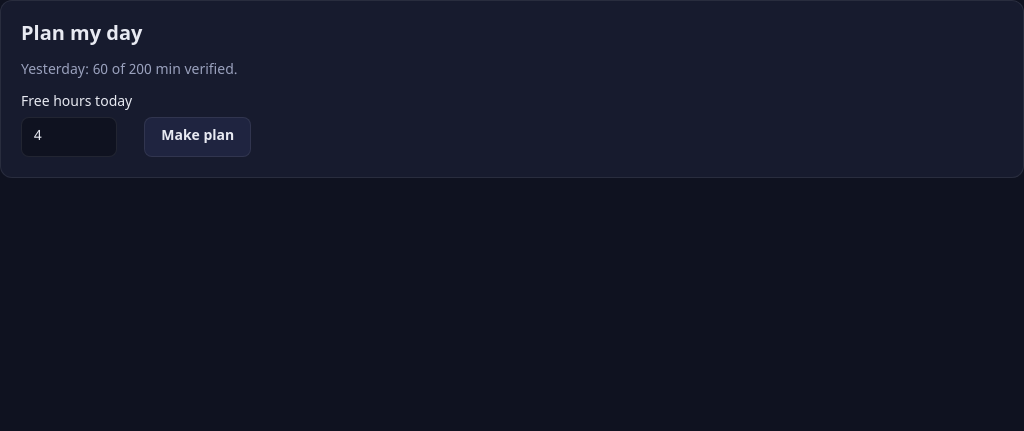
PlanCard › shows a gentle catch-up note when yesterday was only partly verified
Expected: the text "Yesterday: 60 of 200 min verified." is shown, left=21, top=61, right=238, bottom=80
Step 1. Click the button "Make plan" → [198, 137], box left=144, top=117, right=251, bottom=157
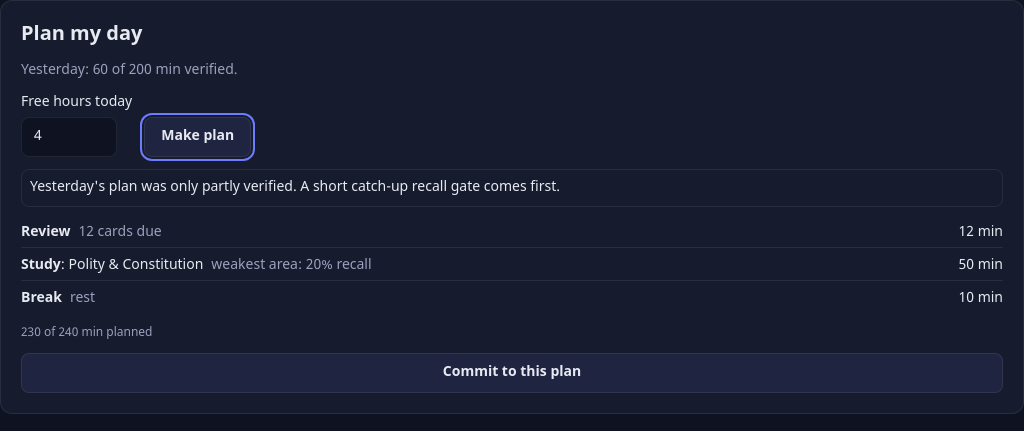
Expected: the text "catch-up recall gate comes first" is shown, left=30, top=178, right=560, bottom=197
